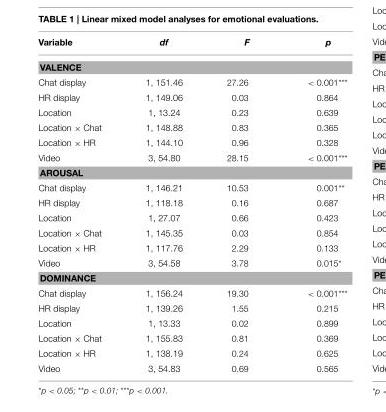table: (37, 37, 346, 372)
table column: (37, 37, 122, 372), (122, 37, 203, 372), (203, 37, 277, 372), (277, 37, 346, 372)
table column header: (37, 37, 346, 54)
table projected row header: (37, 54, 346, 74), (37, 165, 346, 180), (37, 270, 346, 285)
table row: (37, 54, 346, 74), (37, 37, 346, 54), (37, 134, 346, 150), (37, 74, 346, 89), (37, 89, 346, 104), (37, 104, 346, 119), (37, 119, 346, 134), (37, 150, 346, 165), (37, 165, 346, 180), (37, 180, 346, 195), (37, 195, 346, 210), (37, 210, 346, 225), (37, 225, 346, 240), (37, 240, 346, 255), (37, 255, 346, 270), (37, 270, 346, 285), (37, 285, 346, 300), (37, 300, 346, 315), (37, 315, 346, 330), (37, 330, 346, 345), (37, 345, 346, 360), (37, 360, 346, 372)
